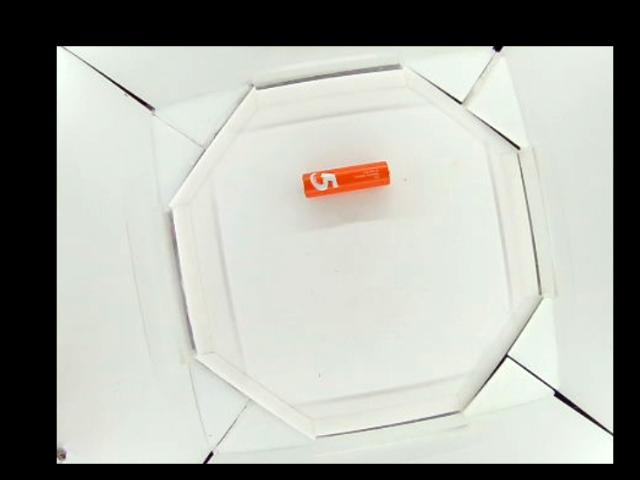Battery: (303, 161, 392, 193)
